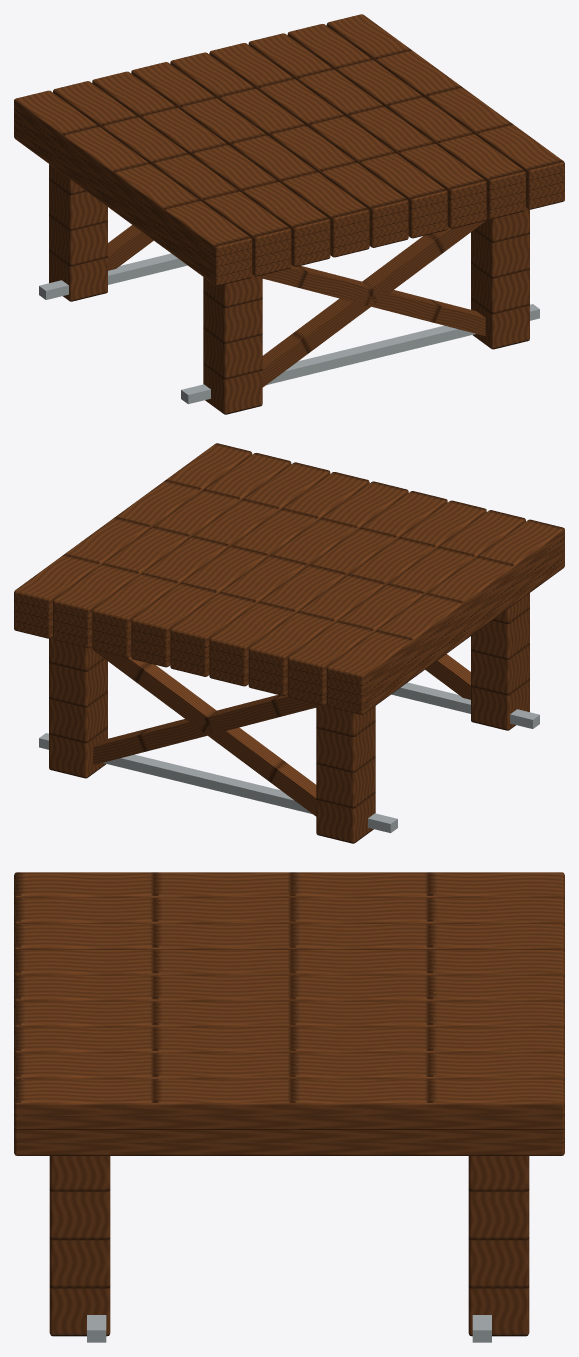
File: modular-survival-base-builder-cross-braced-foundation--7f94e60b__24269.glb
3 views of the same model, one above another, from view 1: azimuth 30°, elevation 25°; view 2: azimuth 150°, elevation 25°; view 3: azimuth 270°, elevation 25° (orthographic). The views are drawn at different scales.
Parts seen in each view (by area): view 1: cross-braced-foundation-reinforced; view 2: cross-braced-foundation-reinforced; view 3: cross-braced-foundation-reinforced.
Part boxes in pixels (x1,y1,x2,y2): cross-braced-foundation-reinforced: (14, 14, 564, 414); cross-braced-foundation-reinforced: (14, 443, 564, 843); cross-braced-foundation-reinforced: (14, 872, 564, 1342).
Size of the model in its own units: 2 by 1 by 2.
2 materials, 1 textured.
